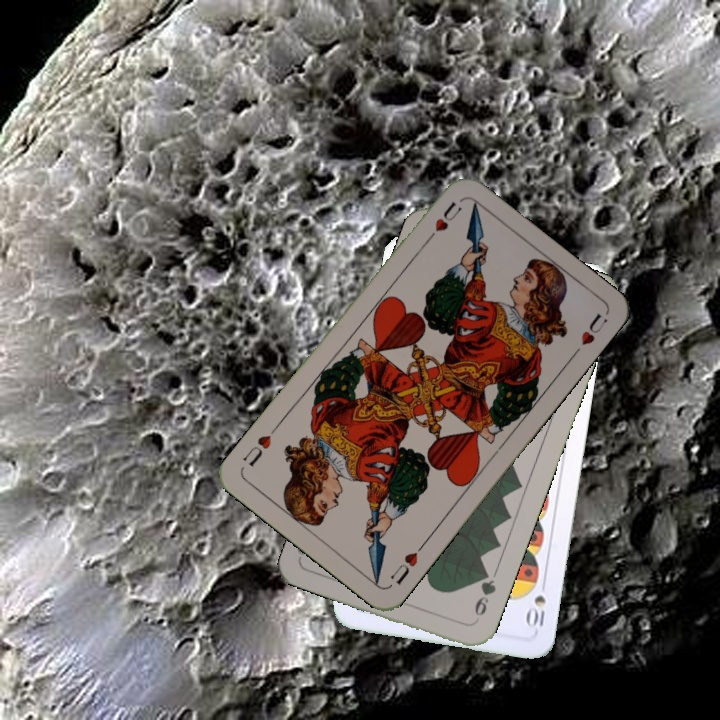G9: (469, 566, 499, 626)
HU: (421, 197, 465, 246), (386, 539, 428, 588)
S10: (523, 575, 549, 630)
